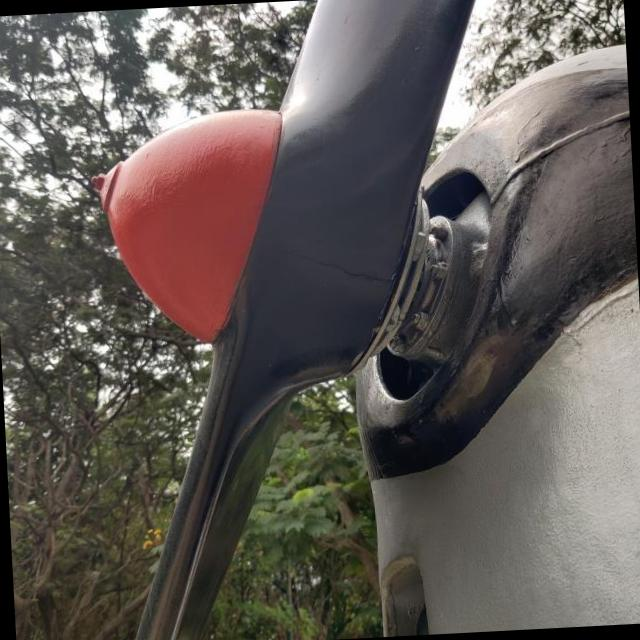Crack: (295, 253, 397, 287)
